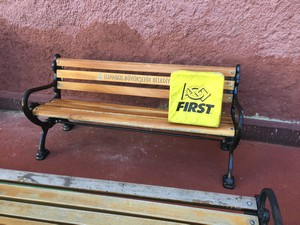cube: (169, 70, 223, 129)
